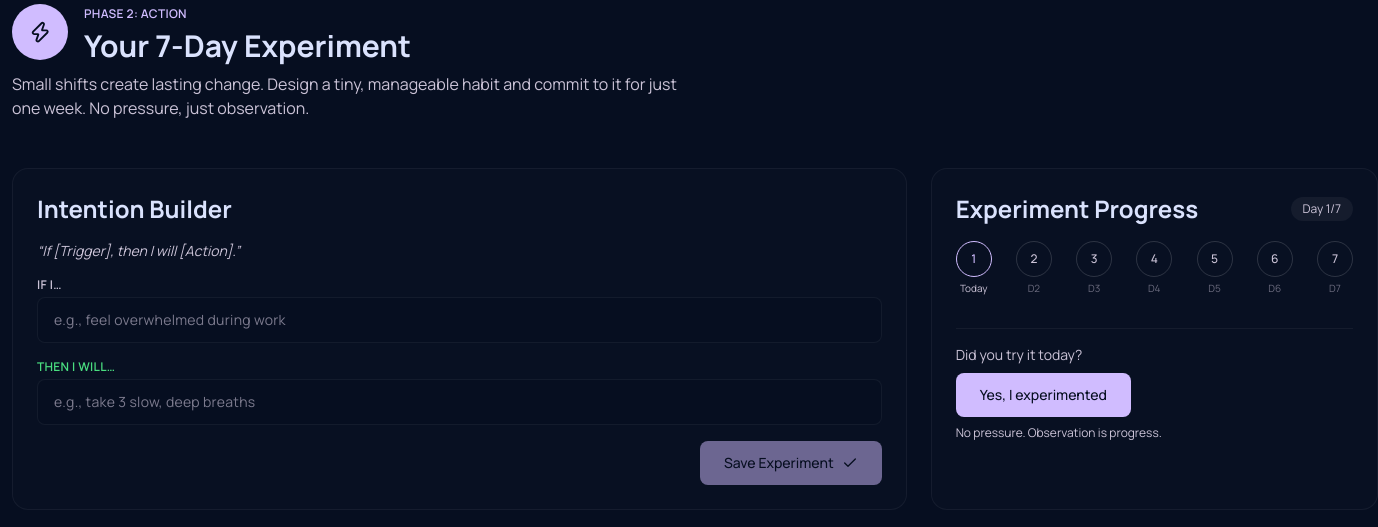
Scenario: ActionPage — submit intention flow › logs a check-in for today when "Yes, I experimented" is clicked
This screenshot has width=1378, height=527.
What coordinates should you click on to do the following:
click the button "Yes, I experimented"
I would click on:
 (1043, 395)
Its box is [956, 373, 1131, 417].
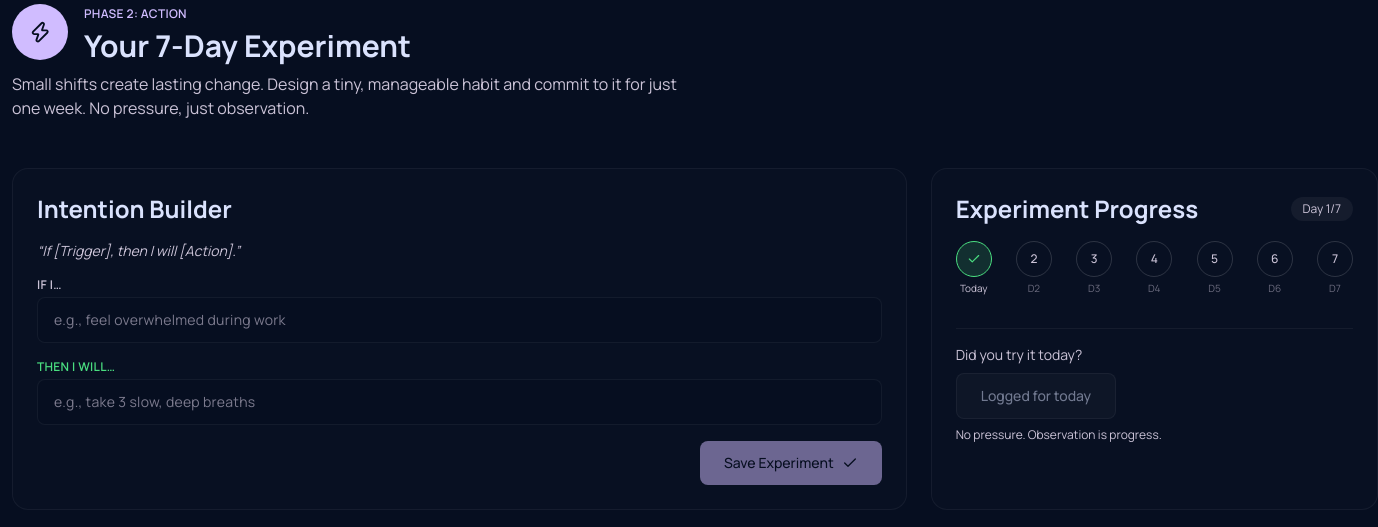
Expected: the text "Logged for today" is shown, [981, 386, 1091, 406]
